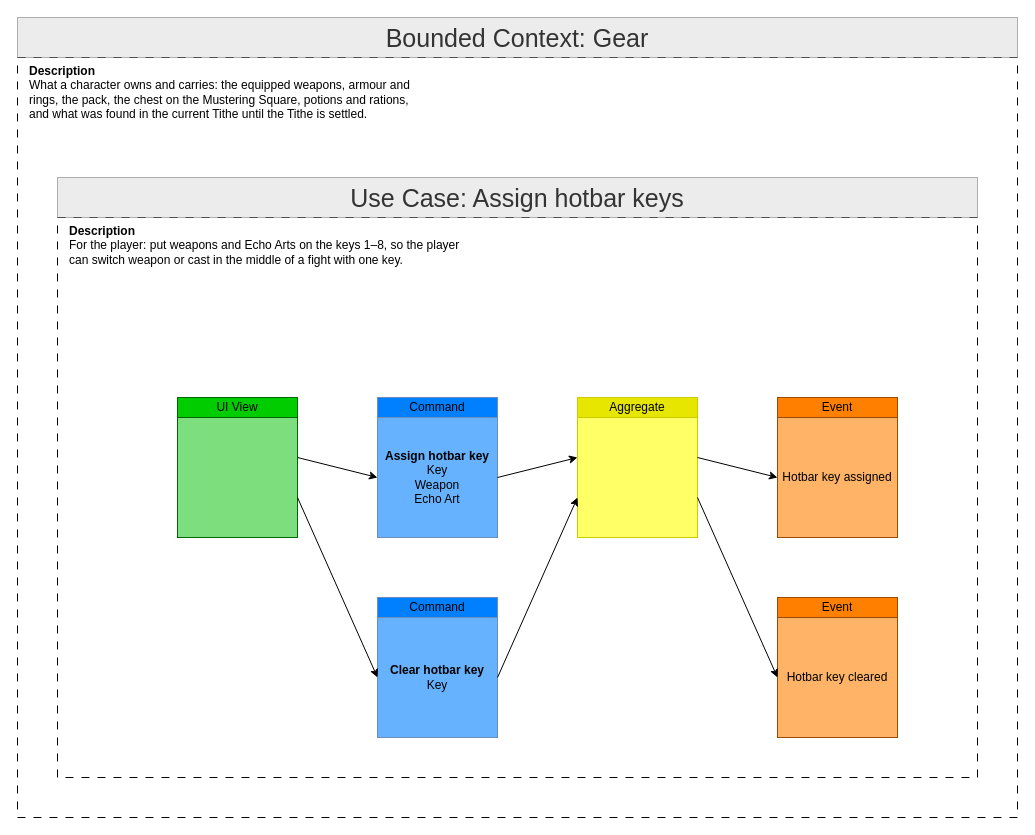
This 1035x835 diagram has some shape labels left out. Each missing label, with the centre of its shape:
Inventory Hotbar (many) · Key · Weapon · Echo Art: (637,477)
Inventory Player: (237,477)
